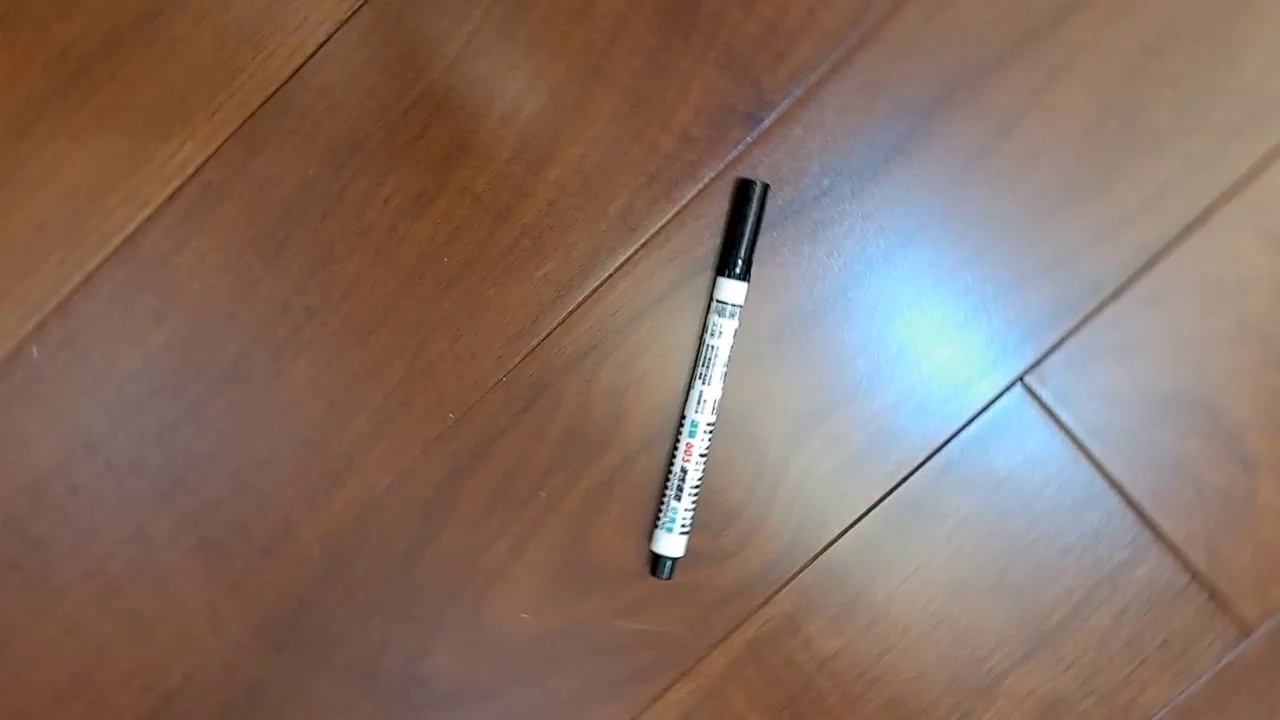pen: (647, 175, 772, 581)
